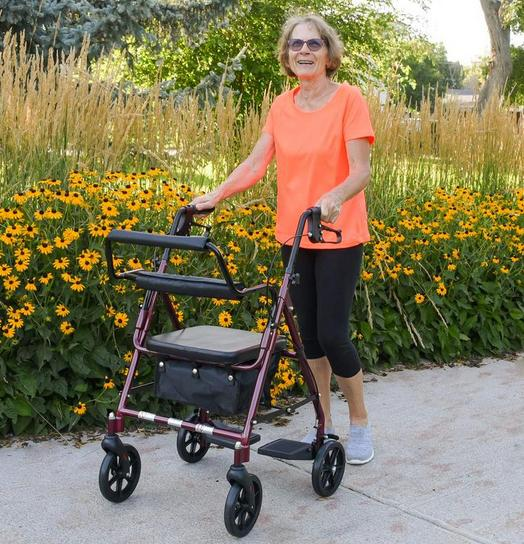walking_frame: (99, 14, 378, 538)
